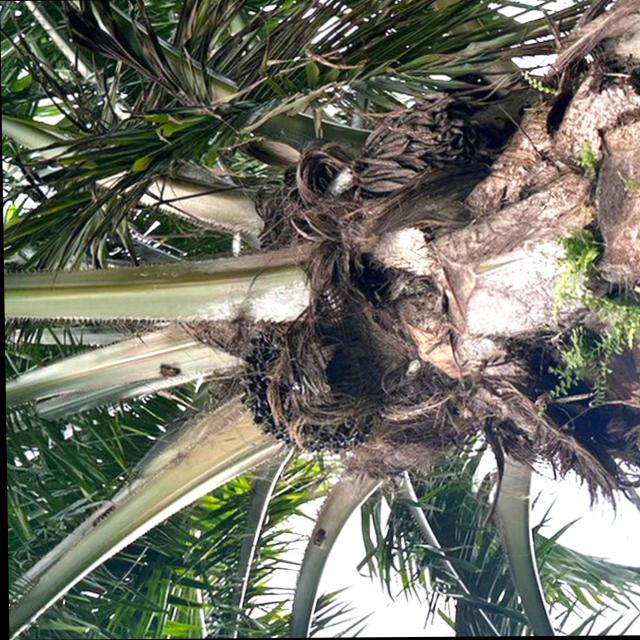unripe: (224, 309, 386, 458)
